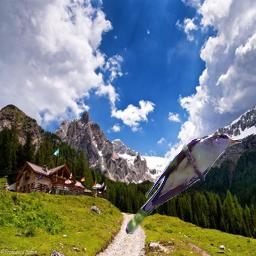Cuckoo: (125, 133, 242, 234)
